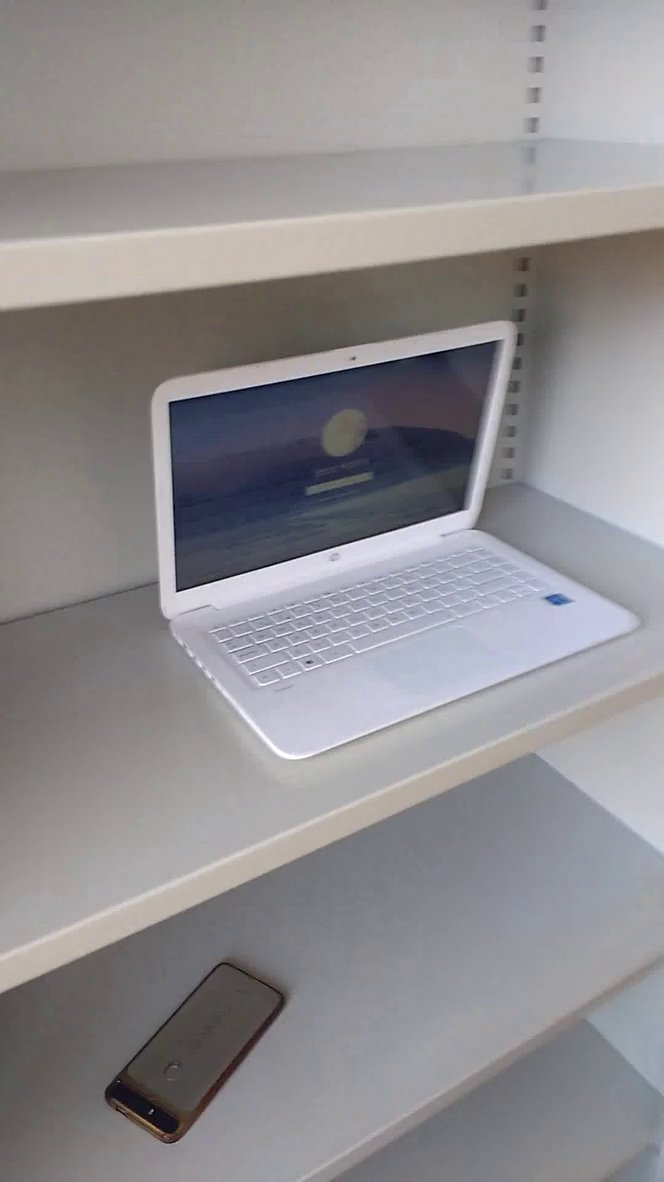laptop: (140, 292, 664, 776)
phone: (96, 950, 303, 1152)
